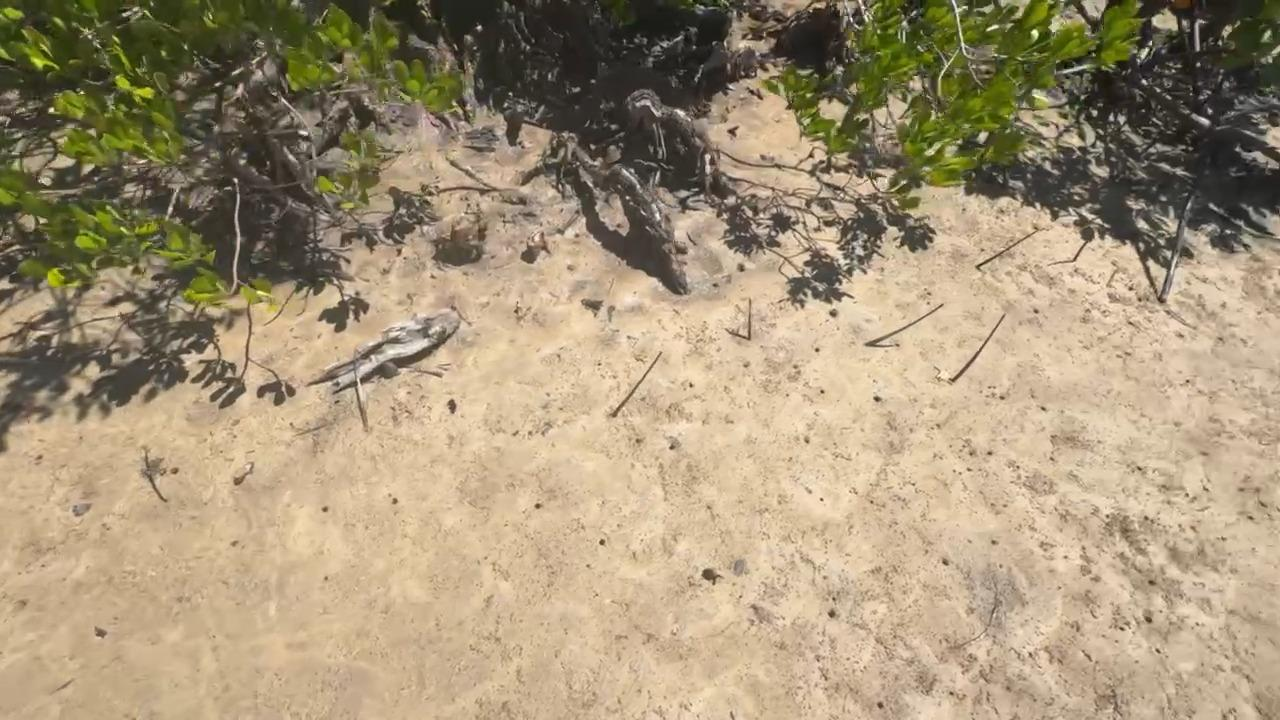Tree: (951, 313, 1005, 381), (864, 304, 944, 345), (614, 349, 663, 414), (975, 229, 1040, 266), (1073, 237, 1092, 261), (143, 455, 157, 481), (746, 297, 754, 340)
